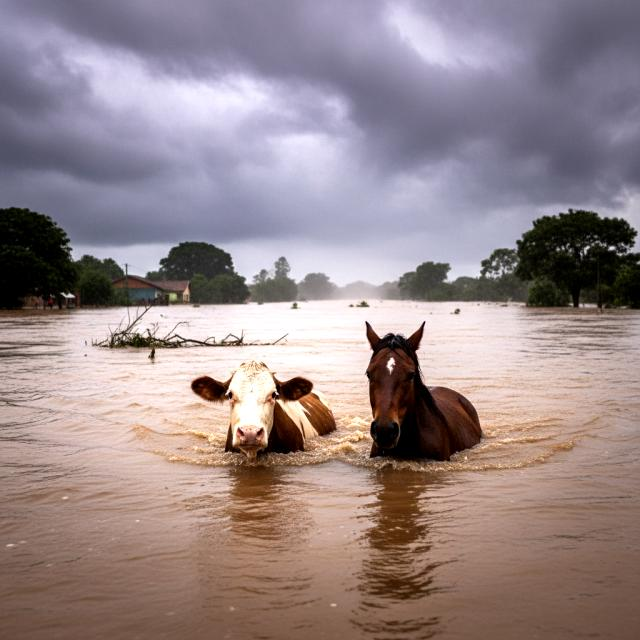cow: (182, 358, 343, 471)
horse: (354, 315, 490, 471)
